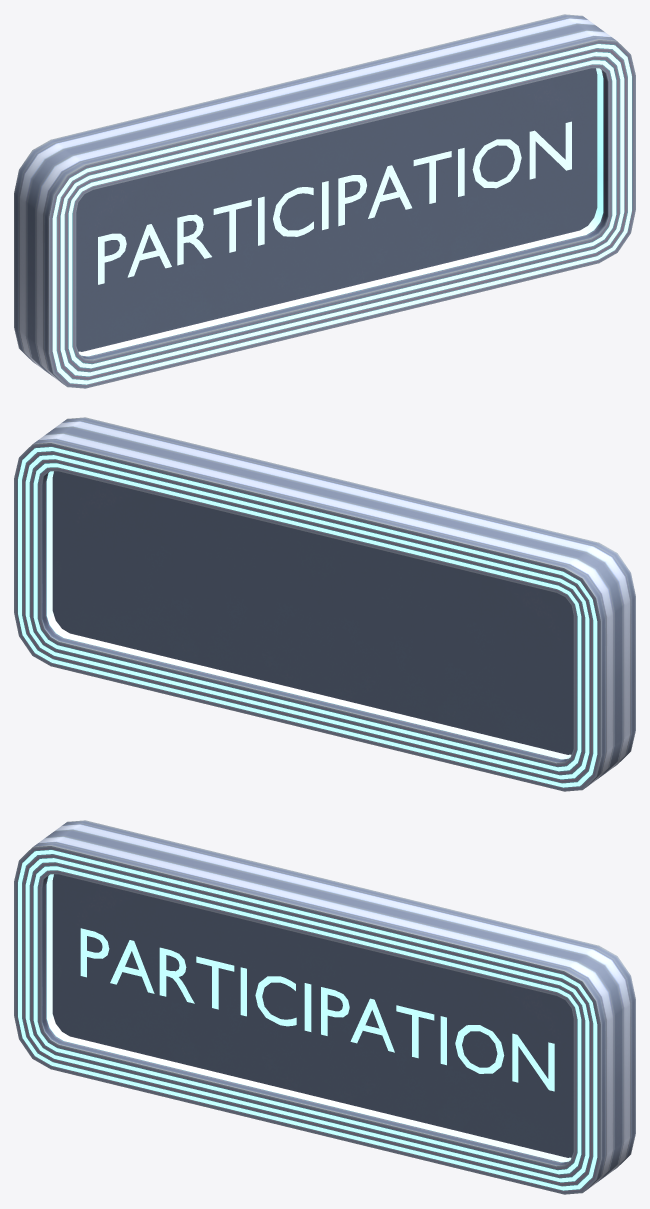
The model's file is obj_participation.gltf.
3 renders of one model, top to bottom at view 1: azimuth 30°, elevation 25°; view 2: azimuth 150°, elevation 25°; view 3: azimuth 330°, elevation 25°, orthographic.
Visible parts, largest first — view 1: obj_participation; view 2: obj_participation; view 3: obj_participation.
Boxes of the visible parts, x1,y1,x2,y2 form: obj_participation: (14,14,635,388); obj_participation: (14,417,635,791); obj_participation: (14,820,635,1194).
Size of what is drawn, in the model's own units: 4.27 by 1.55 by 0.439.
Materials: 2 (1 with a texture image).
